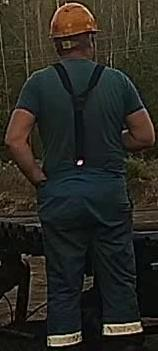helmet: (47, 2, 102, 40)
